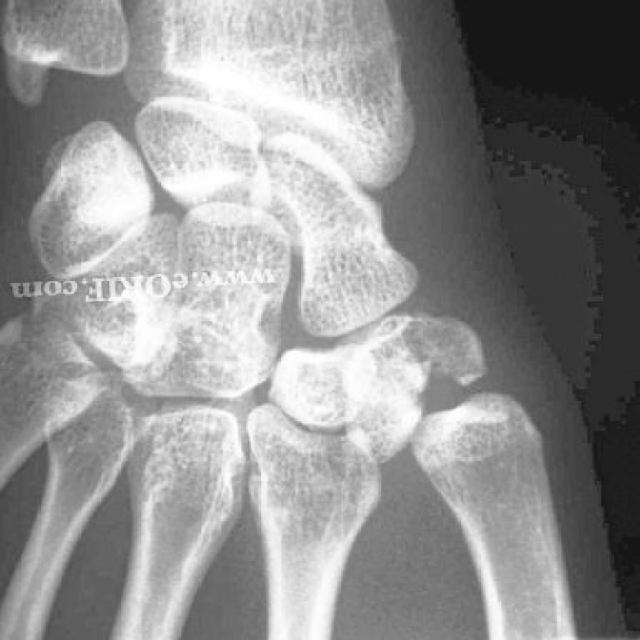Fracture: (346, 308, 497, 431)
